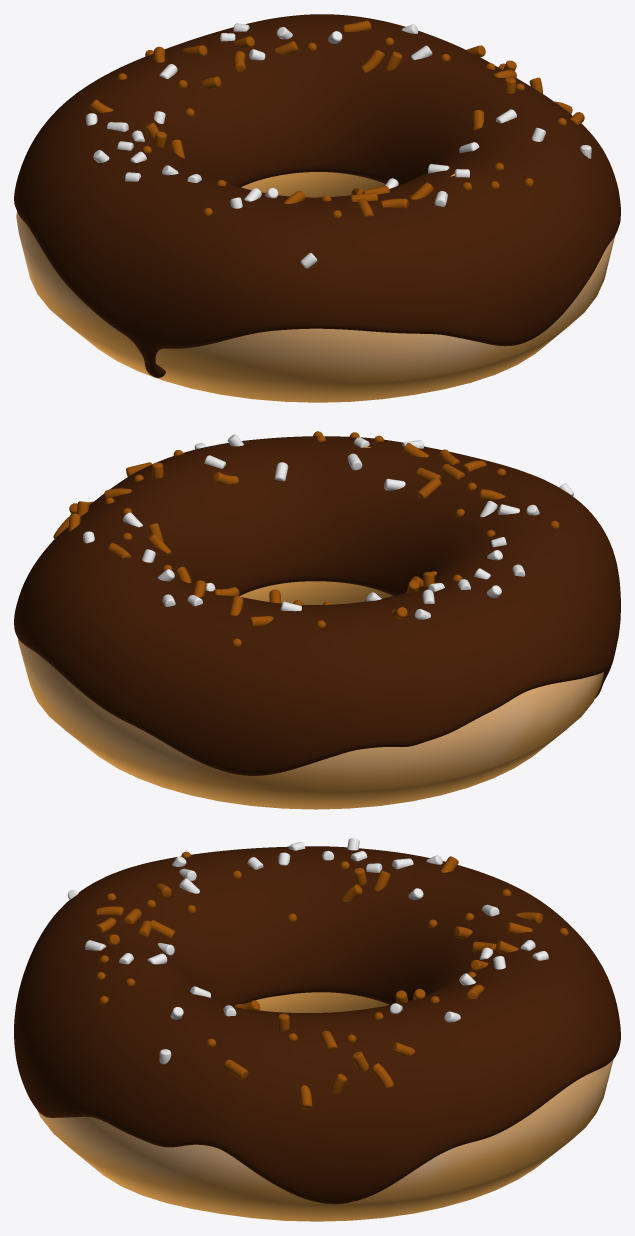
File: chocolate.gltf
The picture shows the model from 3 angles, top to bottom: view 1: azimuth 30°, elevation 25°; view 2: azimuth 150°, elevation 25°; view 3: azimuth 270°, elevation 25°; orthographic projection.
Visible parts, largest first — view 1: icing, Donut.008; view 2: icing, Donut.008; view 3: icing, Donut.008.
Part boxes in pixels (left/top/right/bottom): icing: left=14, top=14, right=620, bottom=377; Donut.008: left=16, top=172, right=615, bottom=402; icing: left=14, top=431, right=620, bottom=775; Donut.008: left=18, top=446, right=603, bottom=809; icing: left=14, top=838, right=620, bottom=1204; Donut.008: left=37, top=992, right=613, bottom=1221.
Bounding box in the file's own units: 0.1475 × 0.0555 × 0.1493.
7 materials, 1 textured.
